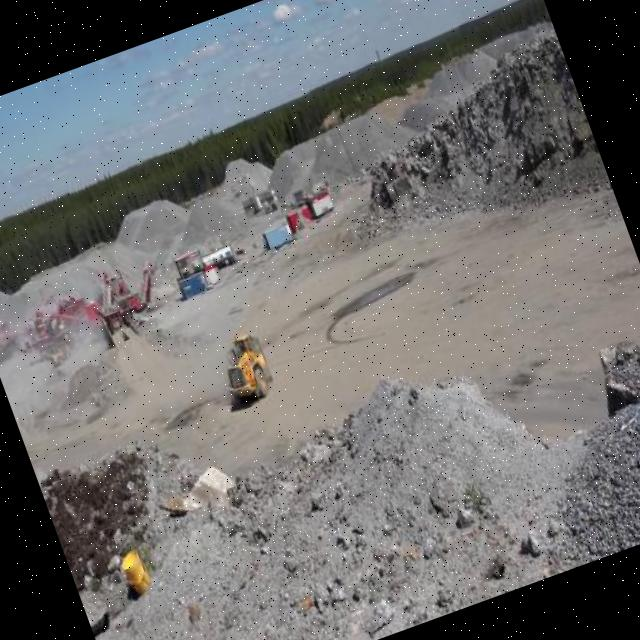Dump Truck: (208, 322, 280, 409)
